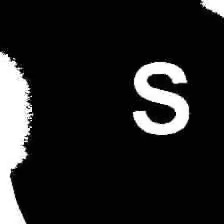LTR_S: (127, 57, 197, 139)
